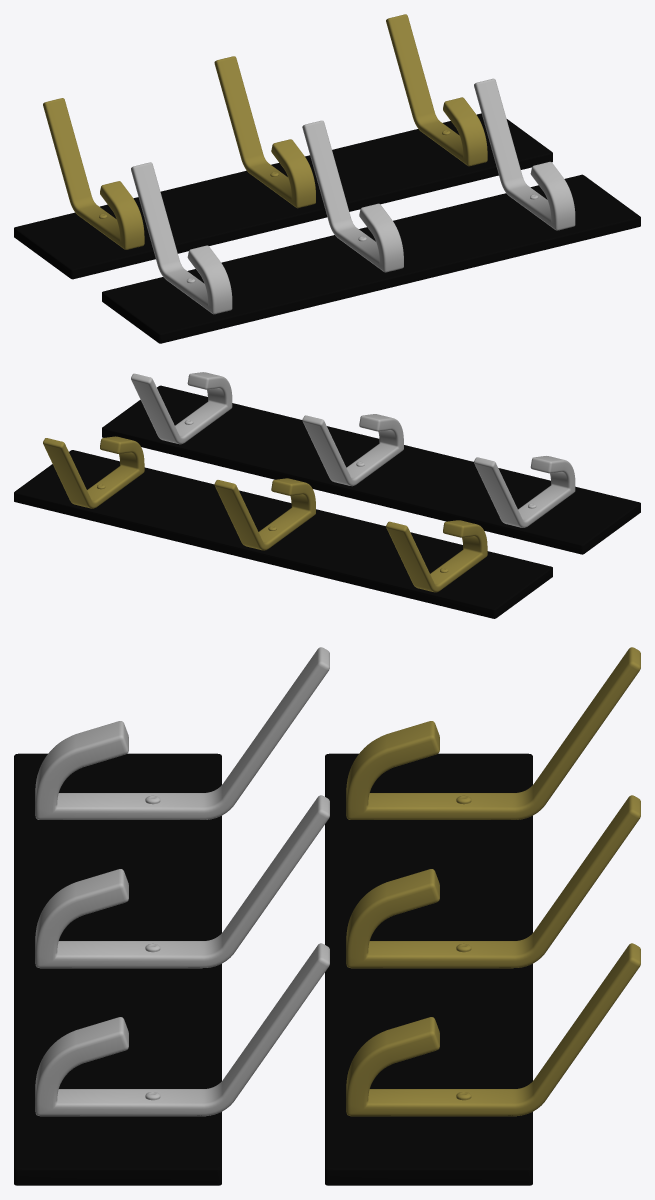
Rendered from Hangers.fbx.
The picture shows the model from 3 angles, top to bottom: view 1: azimuth 30°, elevation 25°; view 2: azimuth 150°, elevation 25°; view 3: azimuth 270°, elevation 25°; orthographic projection. The views are drawn at different scales.
Parts seen in each view (by area): view 1: Board 2, Board 1, Hook 4, Hook 6, Hook 3, Hook 5, Hook 2, Hook 1; view 2: Board 1, Board 2, Hook 6, Hook 2, Hook 3, Hook 5, Hook 1, Hook 4; view 3: Board 2, Board 1, Hook 6, Hook 3, Hook 5, Hook 2, Hook 1, Hook 4.
Part boxes in pixels (bbox=[...]): Board 2: bbox=[102, 174, 640, 343]; Board 1: bbox=[14, 113, 552, 279]; Hook 4: bbox=[131, 162, 232, 314]; Hook 6: bbox=[474, 78, 575, 230]; Hook 3: bbox=[386, 14, 487, 166]; Hook 5: bbox=[302, 120, 403, 272]; Hook 2: bbox=[214, 56, 315, 208]; Hook 1: bbox=[43, 98, 144, 249]; Board 1: bbox=[14, 450, 552, 618]; Board 2: bbox=[102, 385, 640, 554]; Hook 6: bbox=[131, 372, 232, 444]; Hook 2: bbox=[214, 478, 315, 550]; Hook 3: bbox=[43, 436, 144, 508]; Hook 5: bbox=[302, 414, 403, 486]; Hook 1: bbox=[386, 520, 487, 592]; Hook 4: bbox=[474, 456, 575, 527]; Board 2: bbox=[14, 753, 221, 1185]; Board 1: bbox=[325, 753, 532, 1185]; Hook 6: bbox=[35, 943, 329, 1116]; Hook 3: bbox=[346, 943, 640, 1116]; Hook 5: bbox=[35, 795, 329, 968]; Hook 2: bbox=[346, 795, 640, 968]; Hook 1: bbox=[346, 647, 640, 819]; Hook 4: bbox=[35, 647, 329, 819].
Size of the model in its own units: 21.71 by 4.26 by 13.83.
